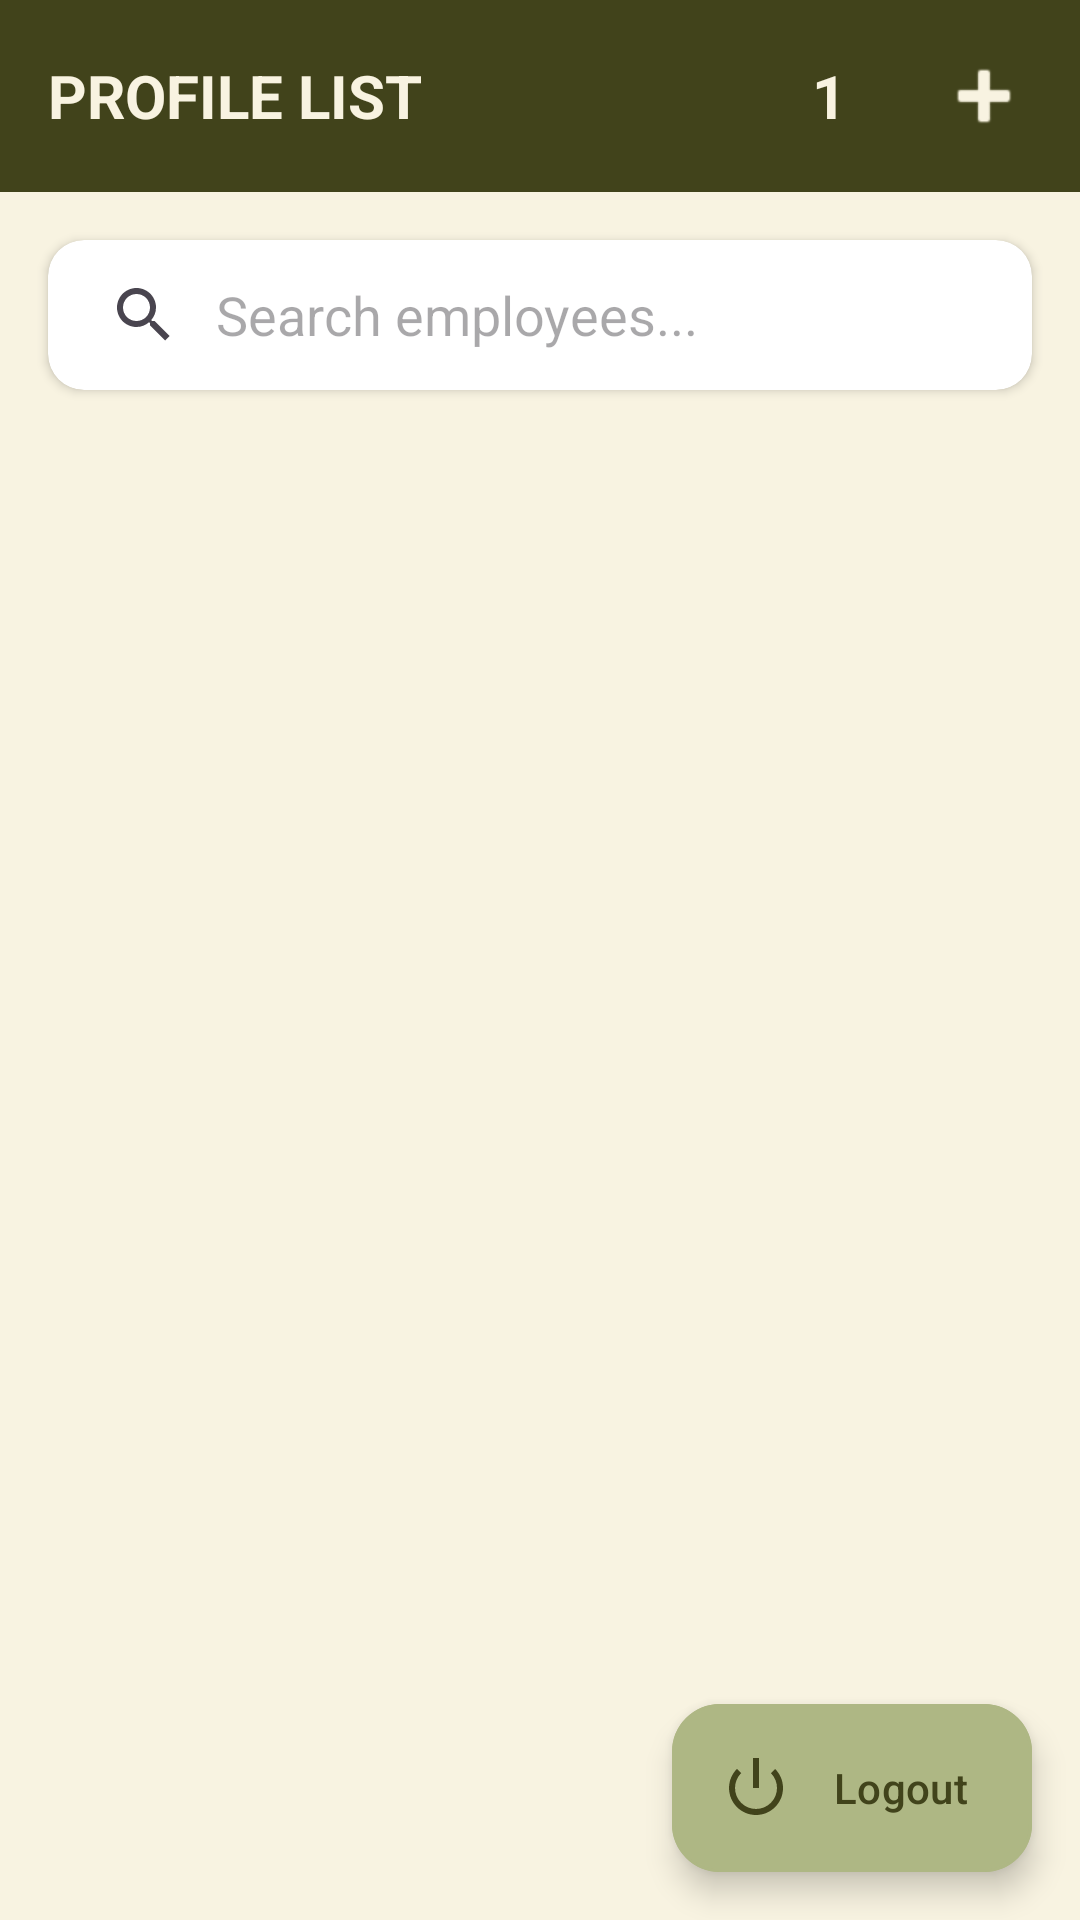

Where icons sit on this 1080×1920 app screen, as (x1, y1, x2, y2):
add: (957, 69, 1011, 123)
